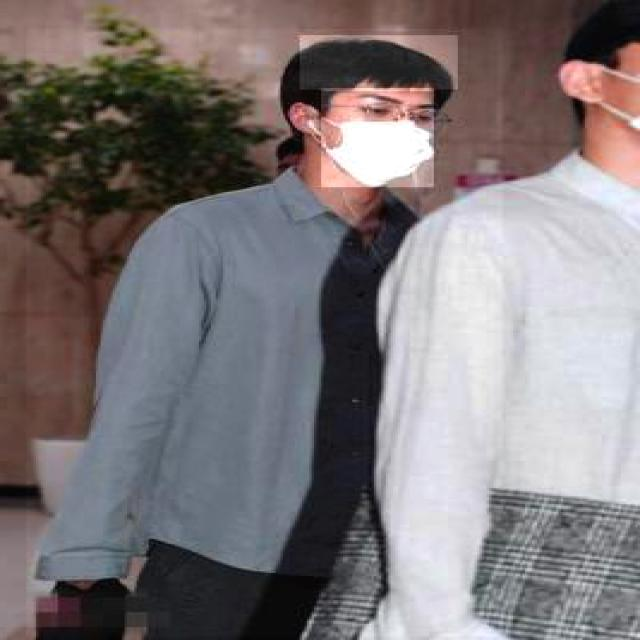face_mask: (319, 88, 434, 189)
glasses: (357, 98, 456, 136)
head_nohelmet: (297, 35, 458, 91)
person: (24, 29, 503, 638)
